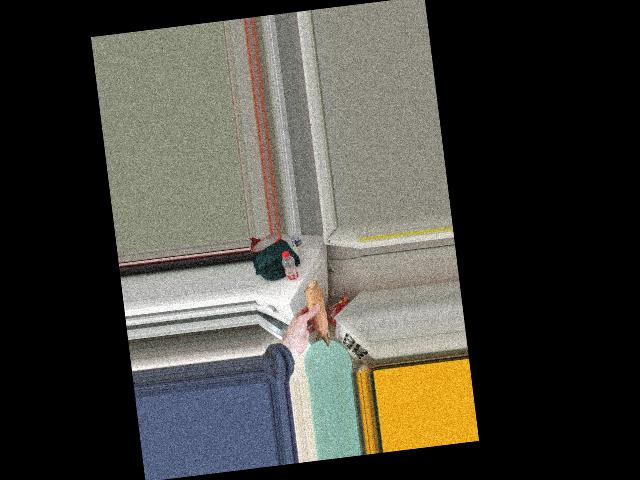sweet_potato: (304, 283, 330, 348)
